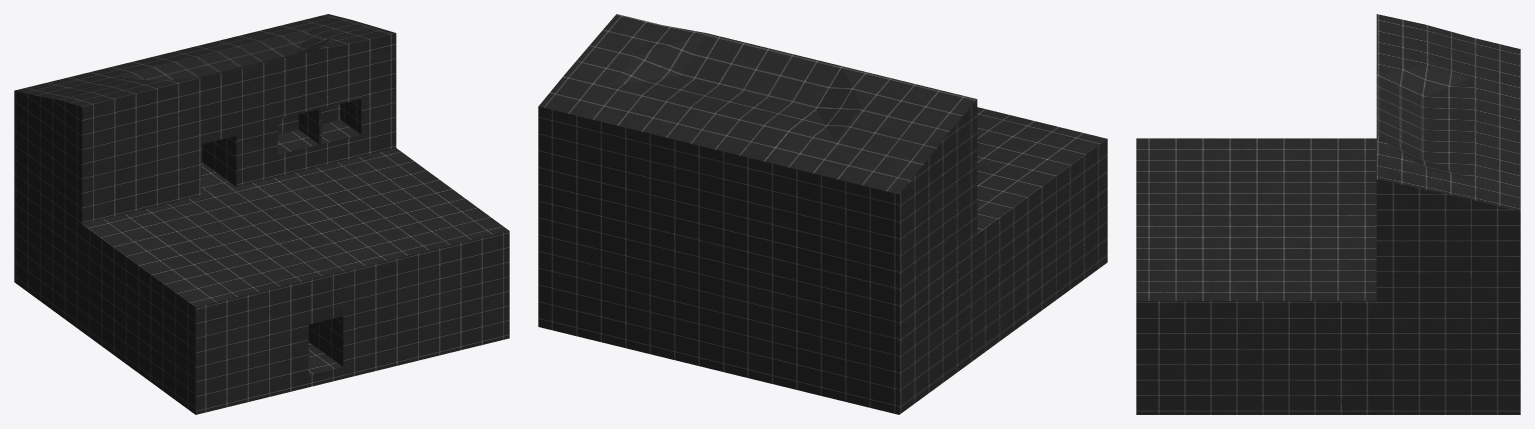
File: house16.obj
3 views of the same model, side by side, from view 1: azimuth 30°, elevation 25°; view 2: azimuth 150°, elevation 25°; view 3: azimuth 270°, elevation 25° (orthographic). The views are drawn at different scales.
Visible parts, largest first — view 1: 立方体.016; view 2: 立方体.016; view 3: 立方体.016.
Part boxes in pixels (box(x1,y1,x2,y2)): 立方体.016: box(14, 14, 509, 414); 立方体.016: box(538, 14, 1107, 414); 立方体.016: box(1136, 14, 1520, 414).
Bounding box in the file's own units: 58 × 39.73 × 58.
1 material, 1 textured.
